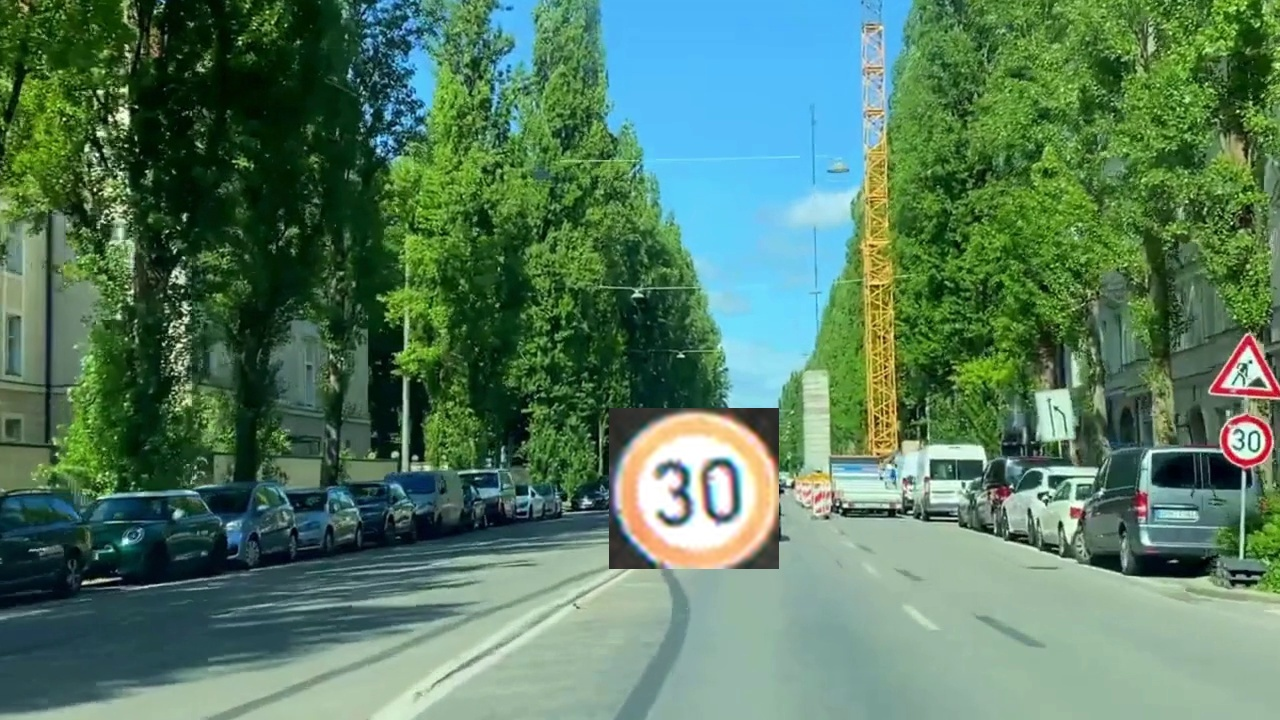Speed 30: (609, 408, 779, 569)
